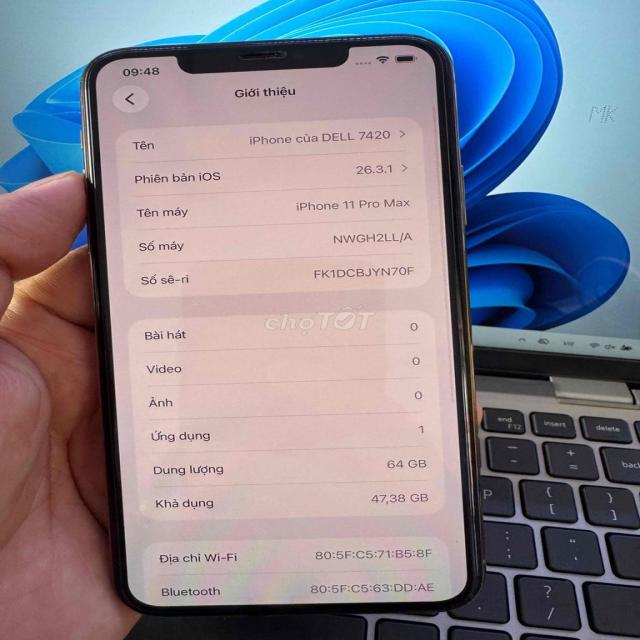gen_11: (83, 27, 490, 613)
